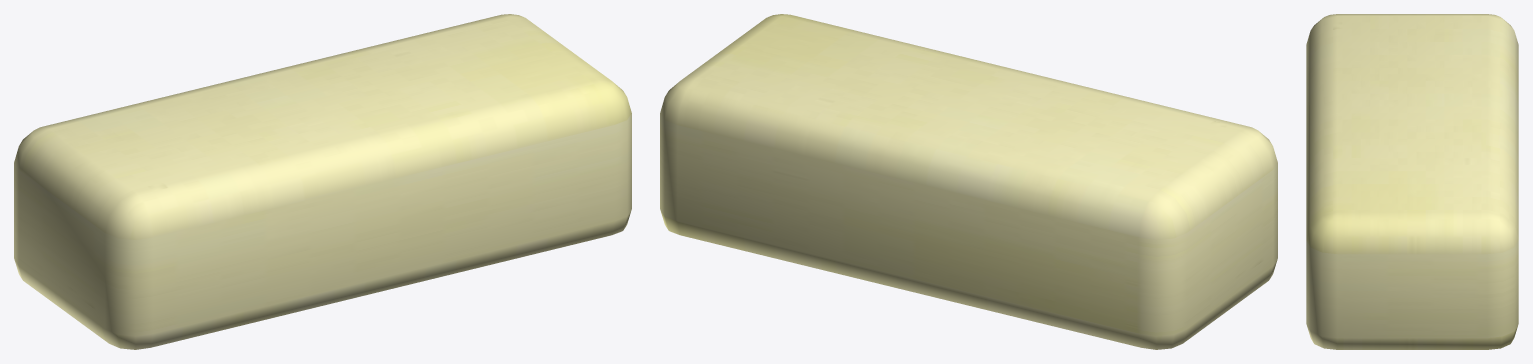
The model's file is butter.obj.
3 renders of one model, left to right at view 1: azimuth 30°, elevation 25°; view 2: azimuth 150°, elevation 25°; view 3: azimuth 270°, elevation 25°, orthographic. The views are drawn at different scales.
Visible parts, largest first — view 1: ChamferBox001; view 2: ChamferBox001; view 3: ChamferBox001.
Part boxes in pixels (x1=…): ChamferBox001: x1=14, y1=14, x2=631, y2=349; ChamferBox001: x1=660, y1=14, x2=1277, y2=349; ChamferBox001: x1=1306, y1=14, x2=1518, y2=349.
Size of the model in its own units: 35.28 by 9.49 by 14.23.
